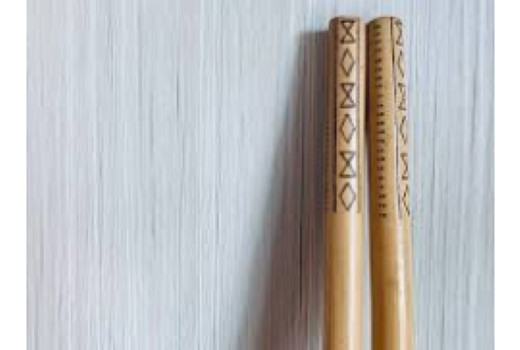baston_e: (362, 29, 427, 338), (305, 37, 366, 330)
baston_v: (362, 0, 416, 51), (320, 5, 367, 60)
